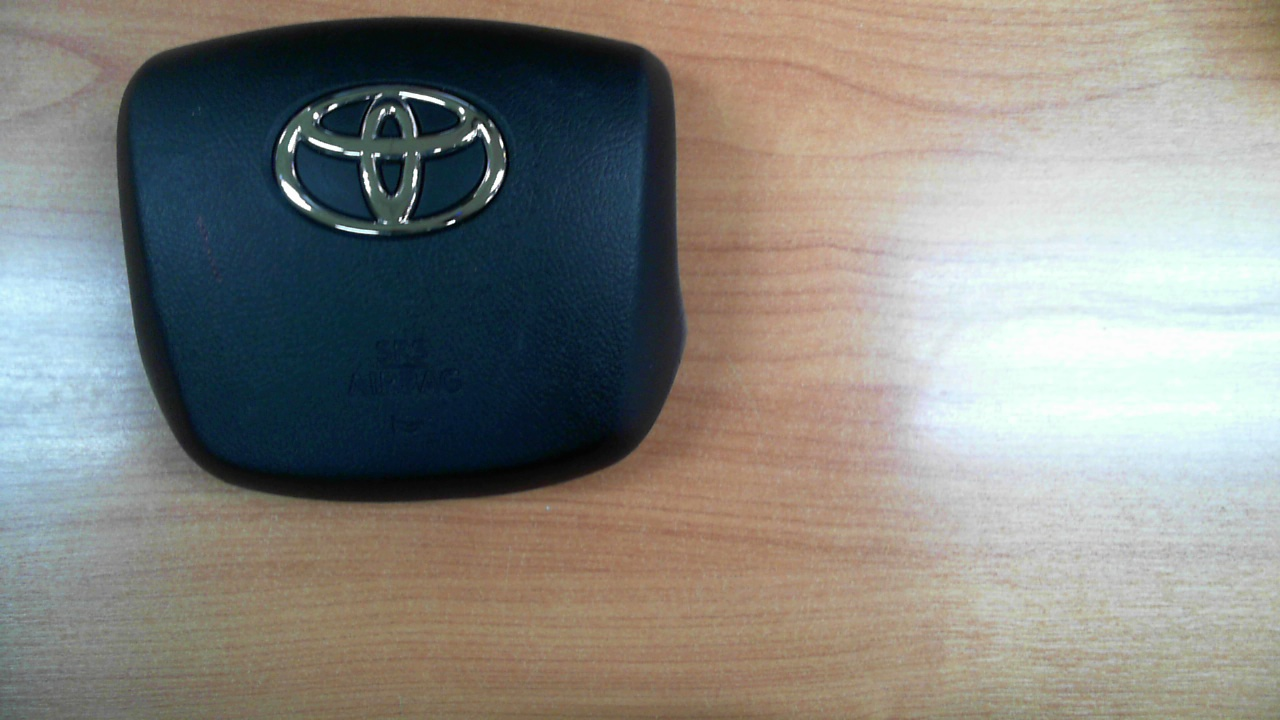Airbag: (125, 16, 685, 498)
Toyota: (275, 84, 507, 237)
